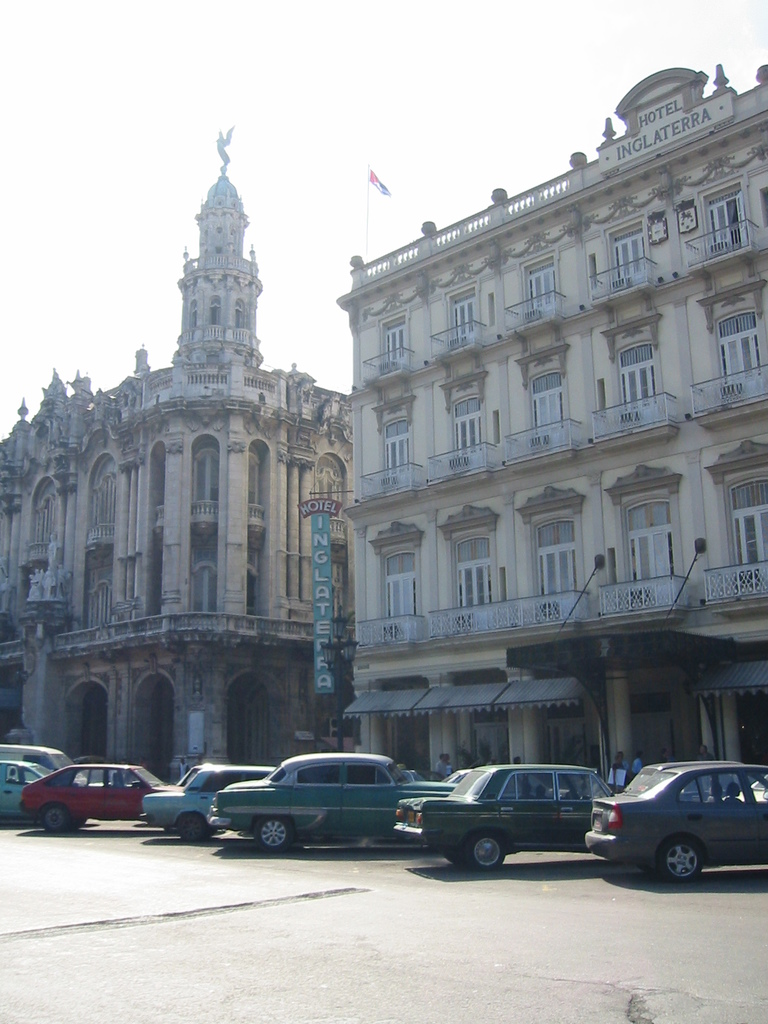Car: (401, 764, 634, 871), (584, 765, 767, 891), (210, 758, 417, 853), (151, 762, 284, 842), (25, 765, 161, 839), (0, 769, 46, 824)
